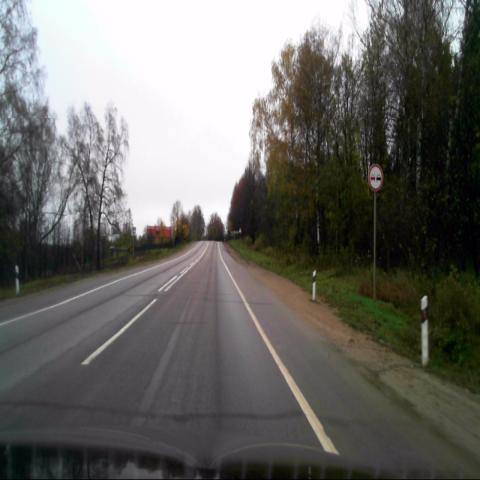3_20: (368, 163, 382, 191)
